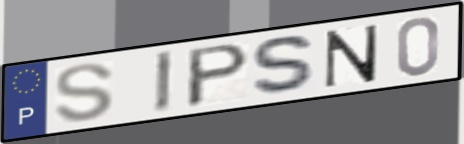0: (394, 15, 442, 79)
I: (152, 48, 176, 116)
N: (321, 21, 382, 90)
P: (183, 41, 253, 111)
S: (249, 33, 321, 97), (52, 61, 118, 124)
